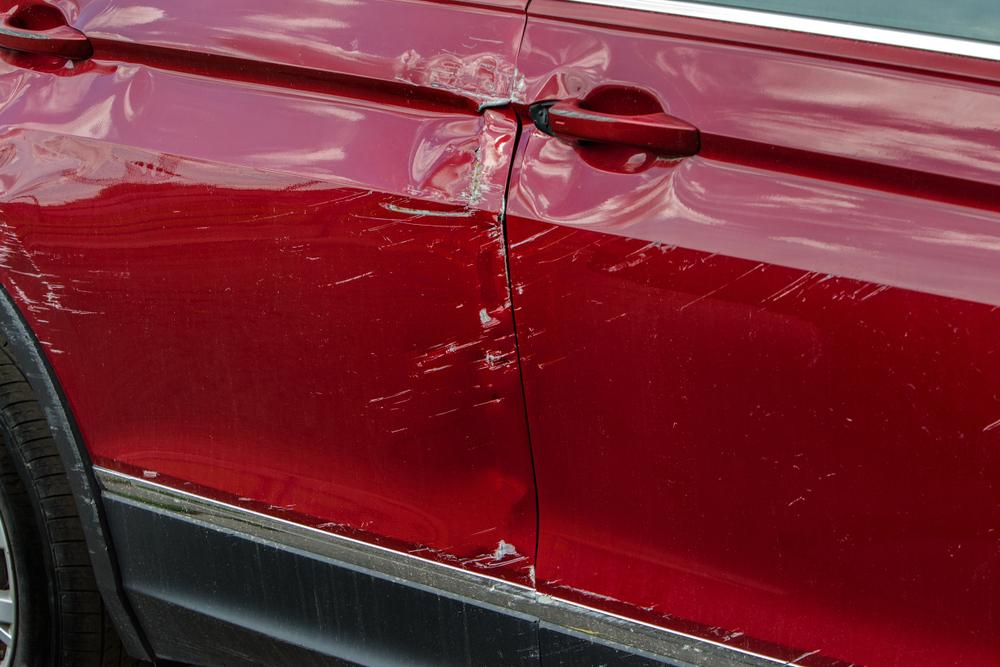dent: (509, 28, 663, 228), (401, 45, 521, 209)
scratch: (512, 221, 937, 369), (285, 200, 522, 449), (137, 467, 533, 591), (549, 575, 846, 666), (0, 208, 130, 353)
